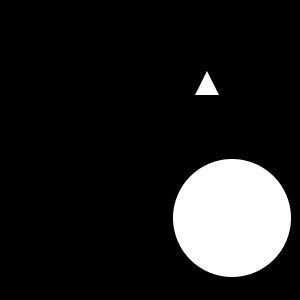rectangle: (173, 159, 291, 277)
triangle: (195, 71, 219, 95)
